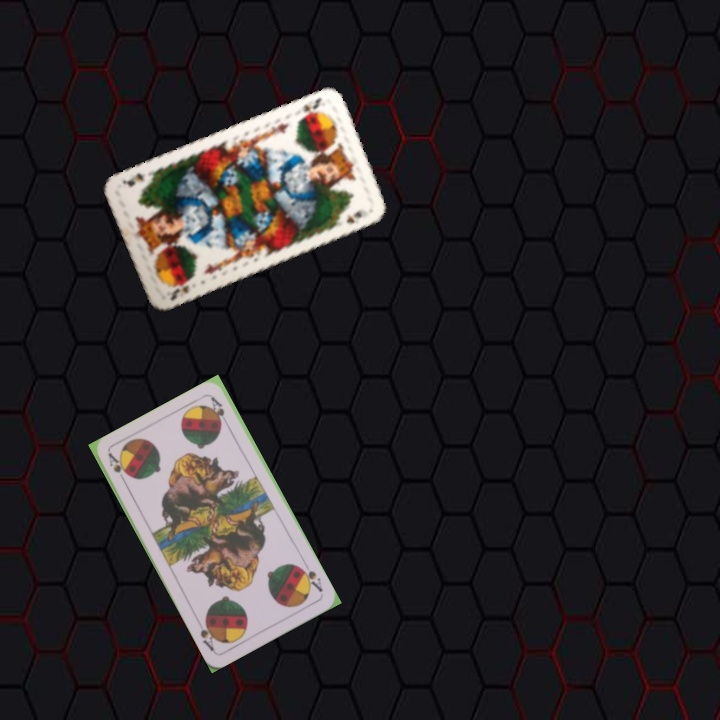SA: (295, 562, 325, 595), (104, 449, 130, 487)
SK: (294, 93, 324, 122), (166, 275, 195, 303)
